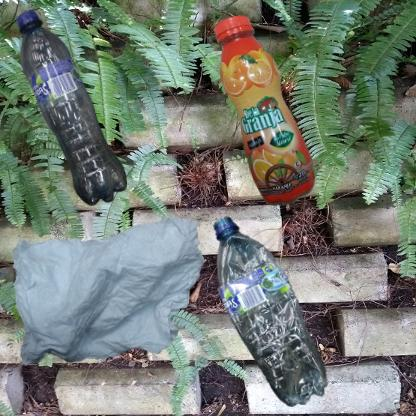botella: (10, 10, 133, 209), (213, 213, 330, 412), (213, 10, 322, 219)
papel: (10, 213, 213, 369)
